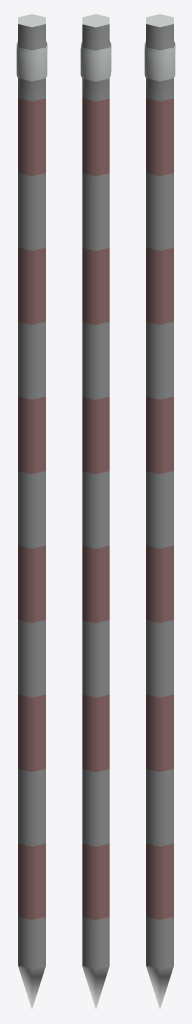
3 views of the same model, side by side, from view 1: azimuth 90°, elevation 25°; view 2: azimuth 150°, elevation 25°; view 3: azimuth 270°, elevation 25° (orthographic).
Parts seen in each view (by area): view 1: G:\FFXIV-MapTools\exports\y6f2\bg\ex5\02_ykt_y6\fld\y6f2\bgp (×3); view 2: G:\FFXIV-MapTools\exports\y6f2\bg\ex5\02_ykt_y6\fld\y6f2\bgp (×3); view 3: G:\FFXIV-MapTools\exports\y6f2\bg\ex5\02_ykt_y6\fld\y6f2\bgp (×3).
Boxes of the visible parts, x1,y1,x2,y2 form: G:\FFXIV-MapTools\exports\y6f2\bg\ex5\02_ykt_y6\fld\y6f2\bgp (×3): (16, 14, 47, 1008); G:\FFXIV-MapTools\exports\y6f2\bg\ex5\02_ykt_y6\fld\y6f2\bgp (×3): (80, 14, 111, 1008); G:\FFXIV-MapTools\exports\y6f2\bg\ex5\02_ykt_y6\fld\y6f2\bgp (×3): (144, 14, 175, 1008).
Size of the model in its own units: 0.1273 by 3.98 by 0.1129.
